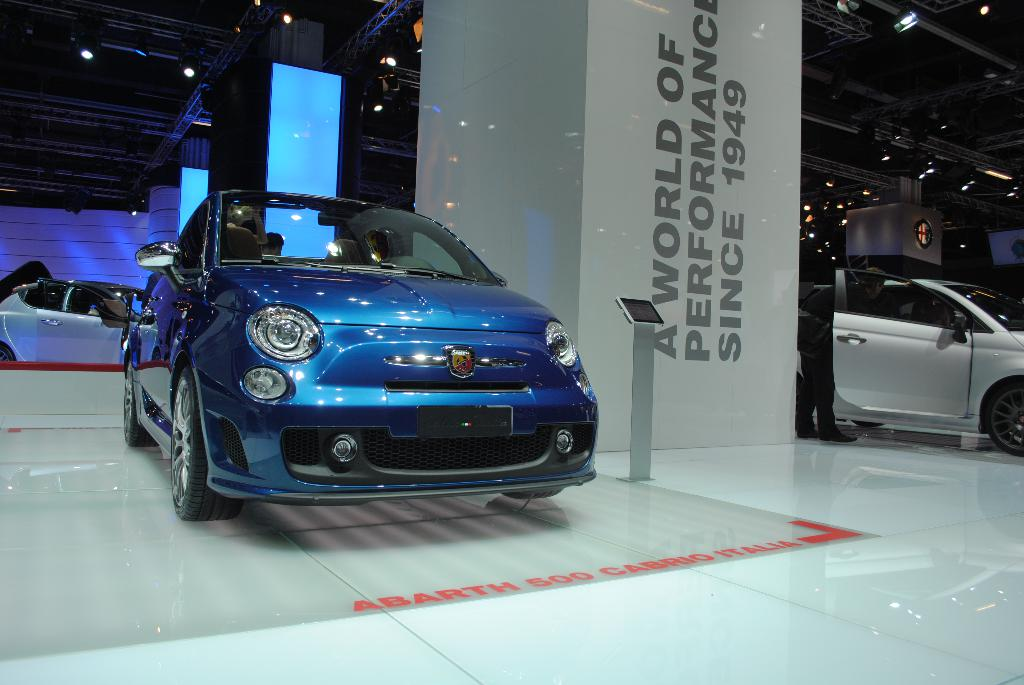Car: (122, 184, 597, 524), (797, 266, 1023, 457), (0, 282, 146, 362)
